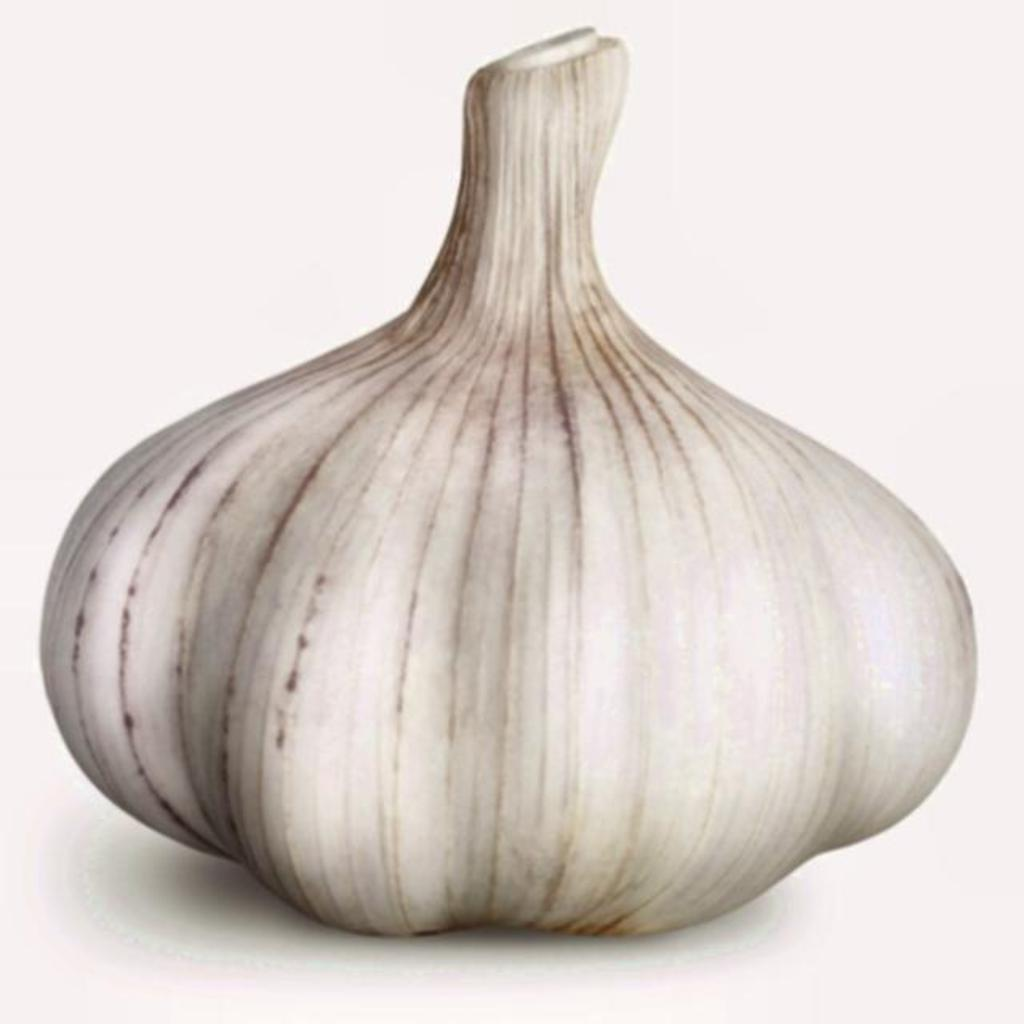garlic: (42, 30, 974, 934)
